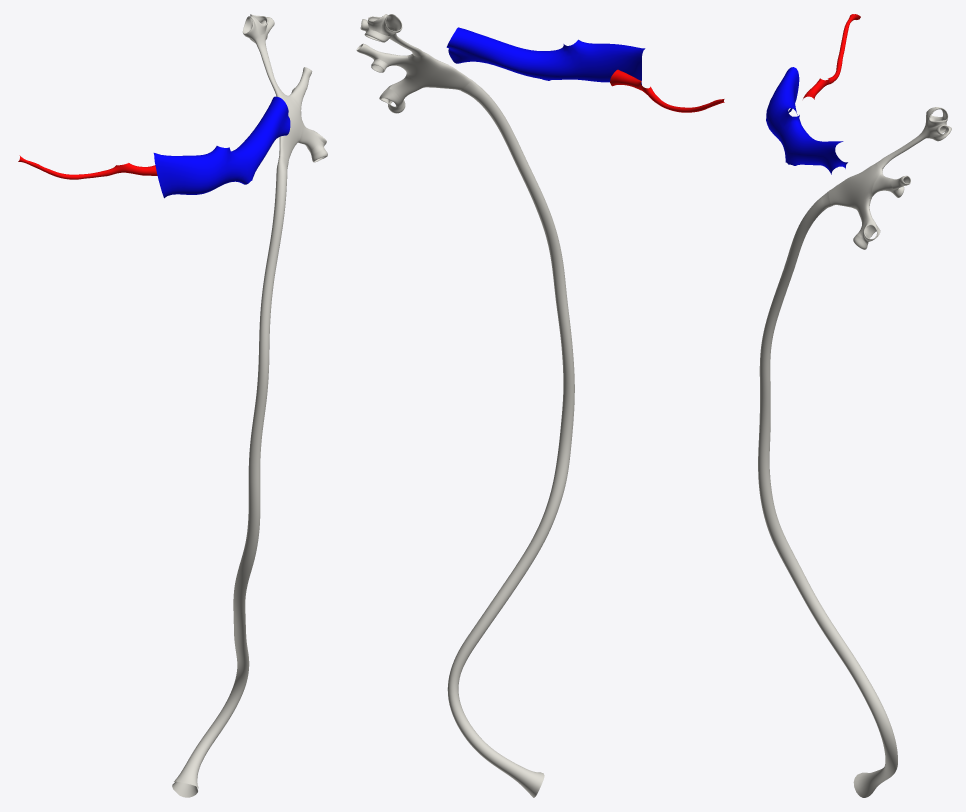
Rendered from VH_M_Kidney_L_Landmarks.glb.
3 views of the same model, side by side, from view 1: azimuth 30°, elevation 25°; view 2: azimuth 150°, elevation 25°; view 3: azimuth 270°, elevation 25° (orthographic). The views are drawn at different scales.
Parts seen in each view (by area): view 1: VH_M_kidney_L_landmark_ureter, VH_M_kidney_L_landmark_renal_vein, VH_M_kidney_L_landmark_minor_calyxes, VH_M_kidney_L_landmark_major_calyxes, VH_M_kidney_L_landmark_renal_artery, VH_M_kidney_L_landmark_renal_pelvis; view 2: VH_M_kidney_L_landmark_ureter, VH_M_kidney_L_landmark_renal_vein, VH_M_kidney_L_landmark_minor_calyxes, VH_M_kidney_L_landmark_renal_pelvis, VH_M_kidney_L_landmark_major_calyxes, VH_M_kidney_L_landmark_renal_artery; view 3: VH_M_kidney_L_landmark_ureter, VH_M_kidney_L_landmark_renal_vein, VH_M_kidney_L_landmark_renal_pelvis, VH_M_kidney_L_landmark_minor_calyxes, VH_M_kidney_L_landmark_major_calyxes, VH_M_kidney_L_landmark_renal_artery.
Boxes of the visible parts, left/top/right/bottom form: VH_M_kidney_L_landmark_ureter: left=172, top=155, right=288, bottom=797; VH_M_kidney_L_landmark_renal_vein: left=153, top=96, right=290, bottom=198; VH_M_kidney_L_landmark_minor_calyxes: left=242, top=14, right=327, bottom=162; VH_M_kidney_L_landmark_major_calyxes: left=254, top=33, right=319, bottom=150; VH_M_kidney_L_landmark_renal_artery: left=18, top=155, right=157, bottom=179; VH_M_kidney_L_landmark_renal_pelvis: left=277, top=94, right=302, bottom=161; VH_M_kidney_L_landmark_ureter: left=447, top=80, right=574, bottom=797; VH_M_kidney_L_landmark_renal_vein: left=446, top=27, right=645, bottom=84; VH_M_kidney_L_landmark_minor_calyxes: left=356, top=14, right=405, bottom=113; VH_M_kidney_L_landmark_renal_pelvis: left=405, top=52, right=471, bottom=90; VH_M_kidney_L_landmark_major_calyxes: left=378, top=26, right=424, bottom=101; VH_M_kidney_L_landmark_renal_artery: left=610, top=69, right=724, bottom=112; VH_M_kidney_L_landmark_ureter: left=758, top=191, right=897, bottom=797; VH_M_kidney_L_landmark_renal_vein: left=766, top=67, right=847, bottom=174; VH_M_kidney_L_landmark_renal_pelvis: left=828, top=163, right=883, bottom=209; VH_M_kidney_L_landmark_minor_calyxes: left=853, top=107, right=951, bottom=249; VH_M_kidney_L_landmark_major_calyxes: left=856, top=124, right=929, bottom=231; VH_M_kidney_L_landmark_renal_artery: left=803, top=14, right=860, bottom=99.
Bounding box in the file's own units: 0.1348 × 0.2939 × 0.0698.
